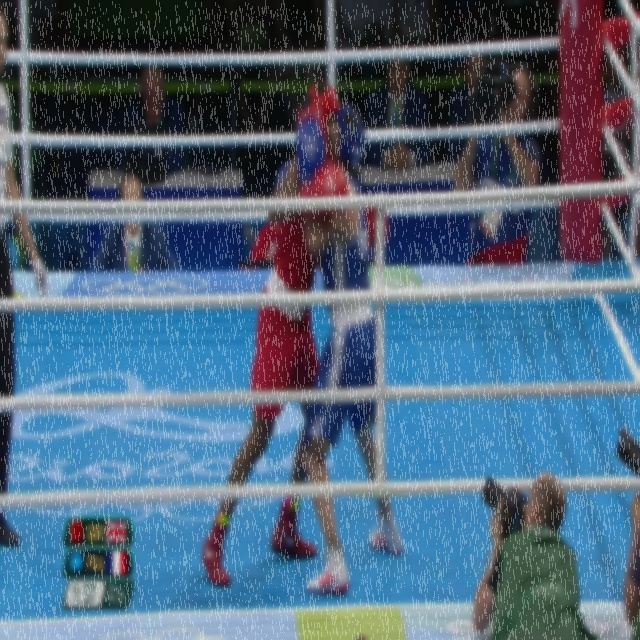pessoa: (198, 75, 349, 590), (274, 101, 404, 597), (0, 0, 49, 553), (472, 473, 586, 639), (453, 60, 541, 268), (584, 17, 640, 256), (88, 176, 184, 272), (116, 62, 192, 178), (366, 59, 434, 171), (609, 419, 640, 637), (336, 1, 396, 109), (446, 54, 486, 164), (250, 218, 278, 266), (5, 230, 22, 276)
